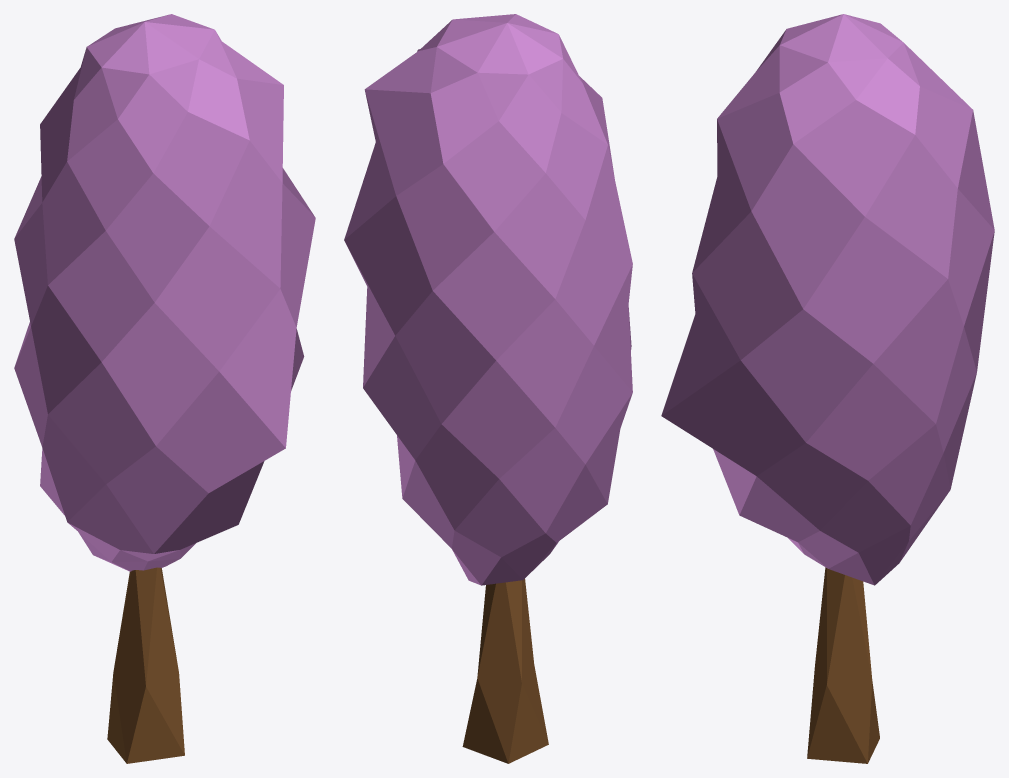
The model's file is Pink tree 1.fbx.
3 views of the same model, side by side, from view 1: azimuth 30°, elevation 25°; view 2: azimuth 150°, elevation 25°; view 3: azimuth 270°, elevation 25° (orthographic).
Visible parts, largest first — view 1: Cube.151; view 2: Cube.151; view 3: Cube.151.
Boxes of the visible parts, x1,y1,x2,y2 form: Cube.151: [14, 14, 315, 763]; Cube.151: [344, 14, 632, 763]; Cube.151: [661, 14, 994, 763].
Bounding box in the file's own units: 448 × 1183 × 487.
